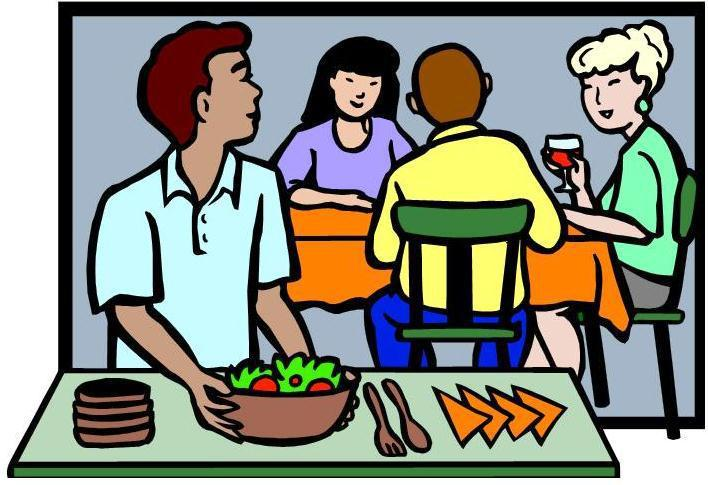chair: (576, 168, 700, 442), (388, 201, 531, 369)
diningtable: (284, 205, 636, 410)
person: (88, 21, 361, 443), (364, 45, 568, 367), (526, 19, 684, 384), (267, 35, 422, 210)
